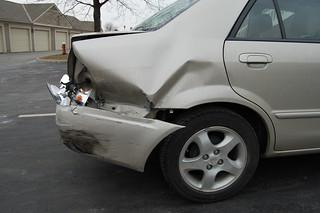Taillight-Damage: (44, 61, 102, 107)
quaterpanel-dent: (107, 34, 227, 110)
rear-bumper-dent: (56, 113, 157, 158)
